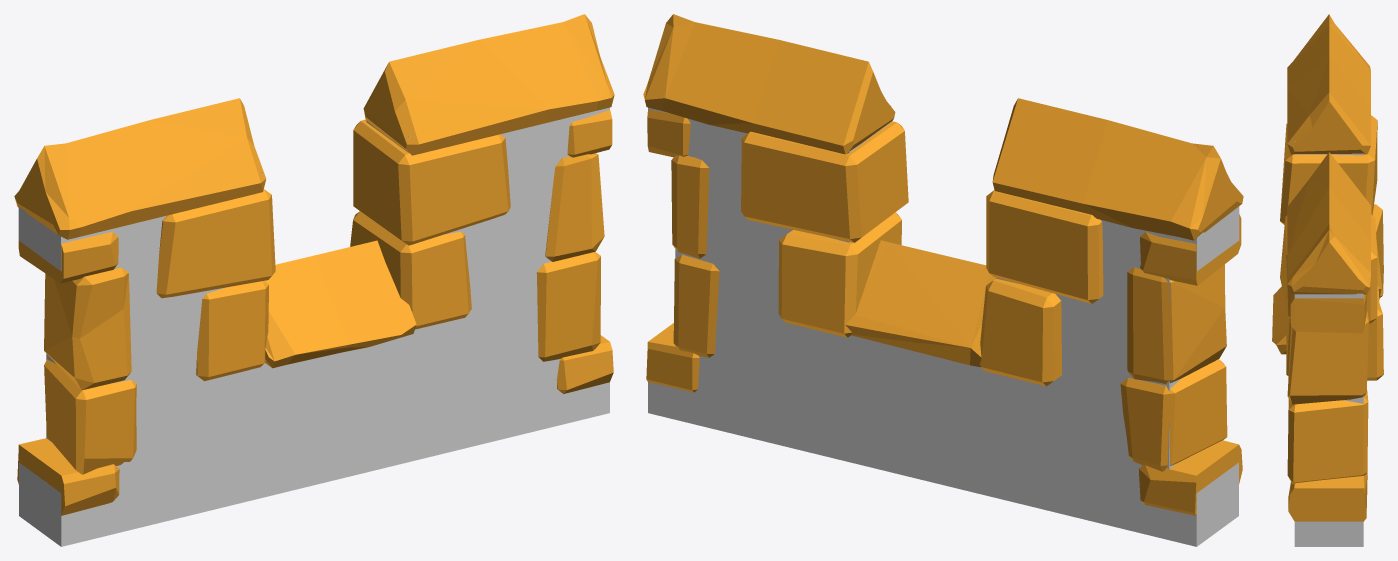
Rendered from SM_Crenelations_A_Fantasy.fbx.
3 renders of one model, left to right at view 1: azimuth 30°, elevation 25°; view 2: azimuth 150°, elevation 25°; view 3: azimuth 270°, elevation 25°, orthographic. The views are drawn at different scales.
Parts seen in each view (by area): view 1: SM_Crenelations_A_Fantasy; view 2: SM_Crenelations_A_Fantasy; view 3: SM_Crenelations_A_Fantasy.
Boxes of the visible parts, x1=… form: SM_Crenelations_A_Fantasy: x1=14, y1=14, x2=614, y2=546; SM_Crenelations_A_Fantasy: x1=643, y1=14, x2=1243, y2=546; SM_Crenelations_A_Fantasy: x1=1272, y1=14, x2=1383, y2=546.
Size of the model in its own units: 3.03 by 2.01 by 0.6462.
